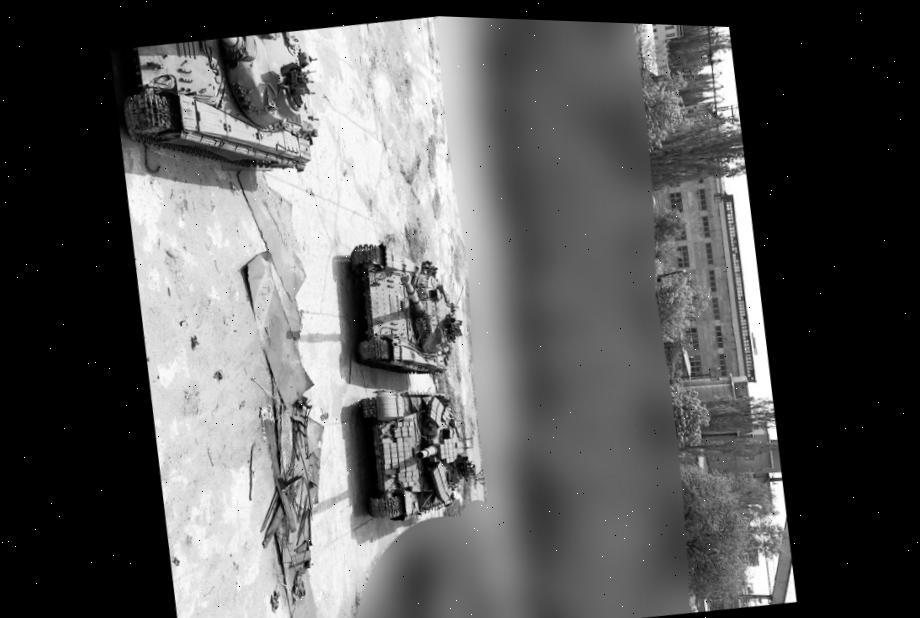tank: (108, 22, 332, 196), (339, 228, 470, 387), (351, 378, 484, 527)
